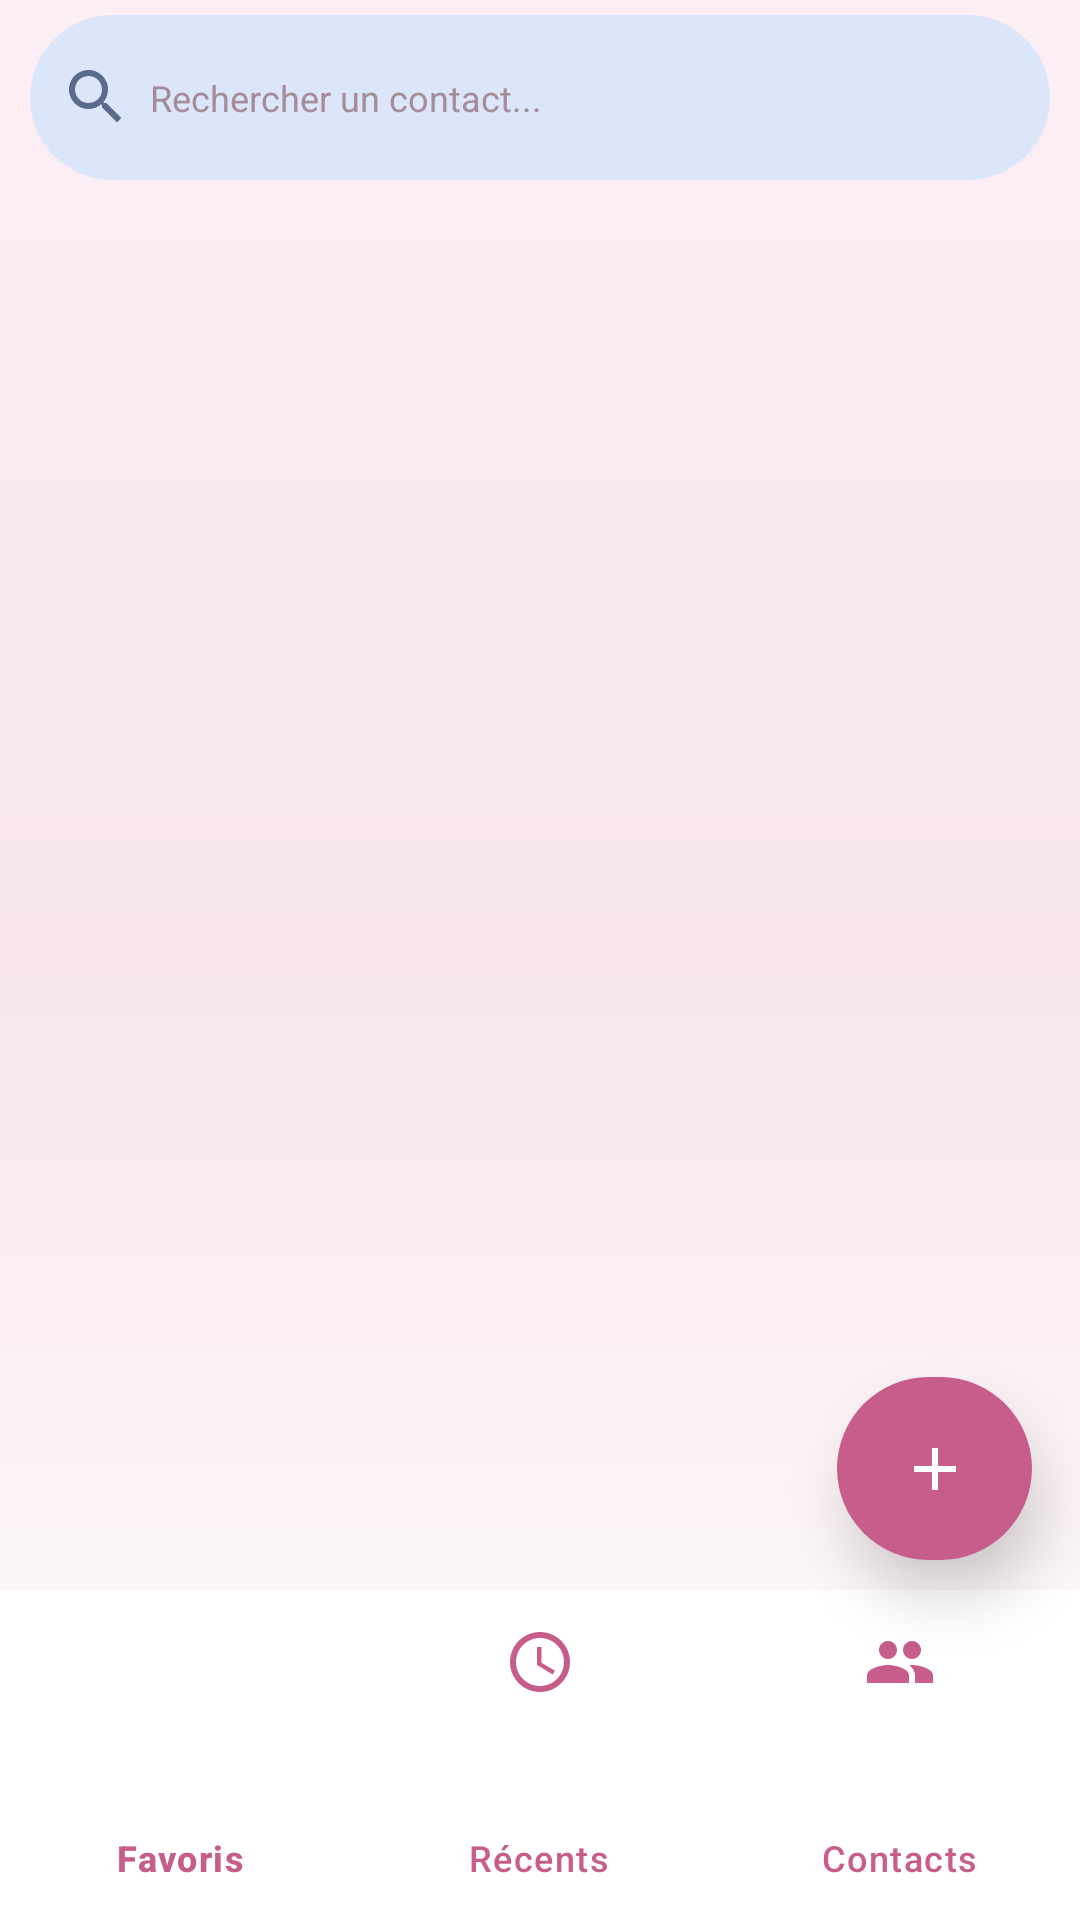

Icon click points for this 1080w x 1920h phone screenshot, format (x,y):
Ajouter un contact: (934,1468)
